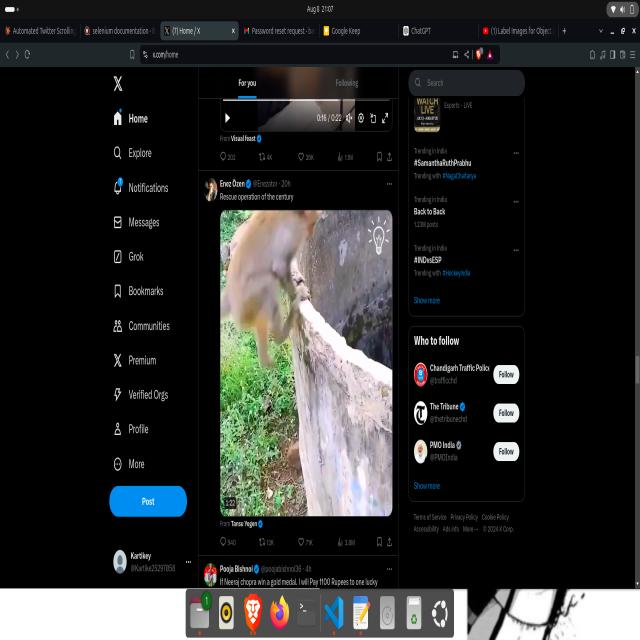Tweet-Comment_Box-: (190, 170, 404, 558)
